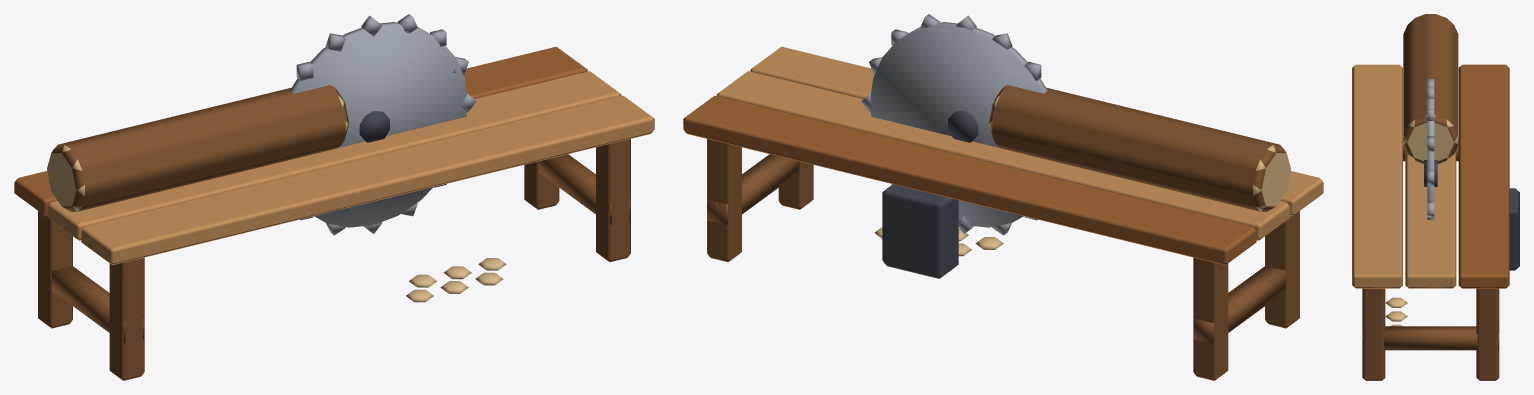
Rendered from saw_bench.glb.
3 views of the same model, side by side, from view 1: azimuth 30°, elevation 25°; view 2: azimuth 150°, elevation 25°; view 3: azimuth 270°, elevation 25° (orthographic). The views are drawn at different scales.
Parts seen in each view (by area): view 1: saw_bench; view 2: saw_bench; view 3: saw_bench.
Part boxes in pixels (box(x1,y1,x2,y2)): saw_bench: box(14, 14, 654, 380); saw_bench: box(683, 14, 1323, 380); saw_bench: box(1352, 14, 1519, 380).
Size of the model in its own units: 2.2 by 1.02 by 0.735.
